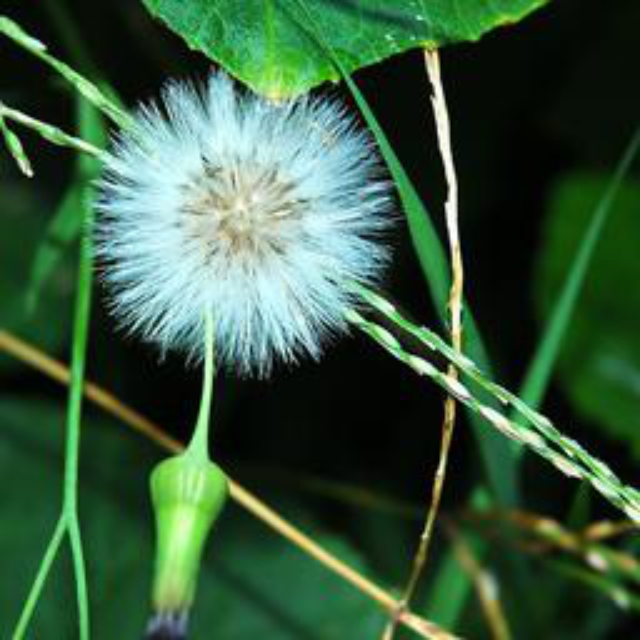dandelion: (83, 63, 410, 388)
